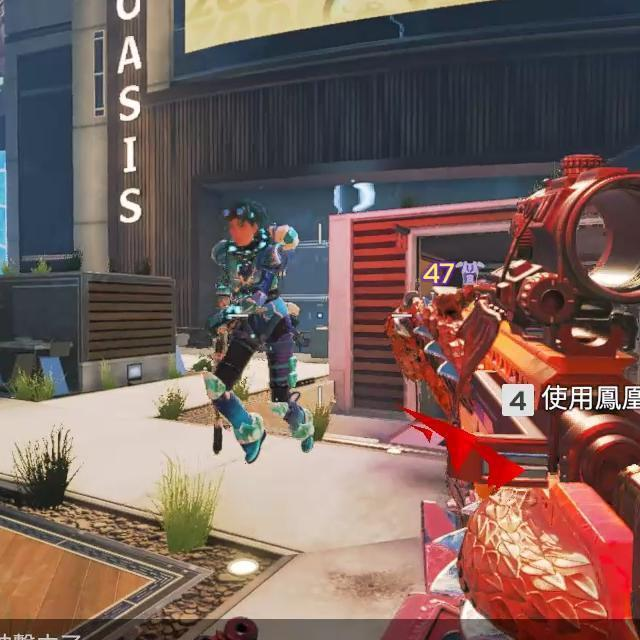avatar: (200, 202, 315, 467)
